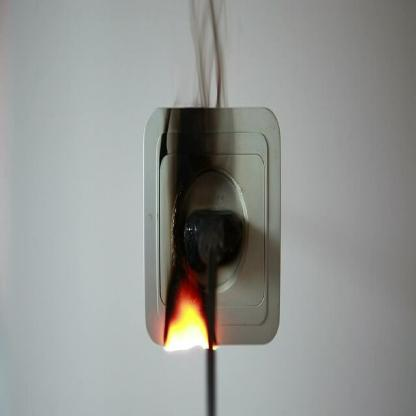fire: (157, 294, 221, 372)
smoke: (185, 0, 239, 206)
